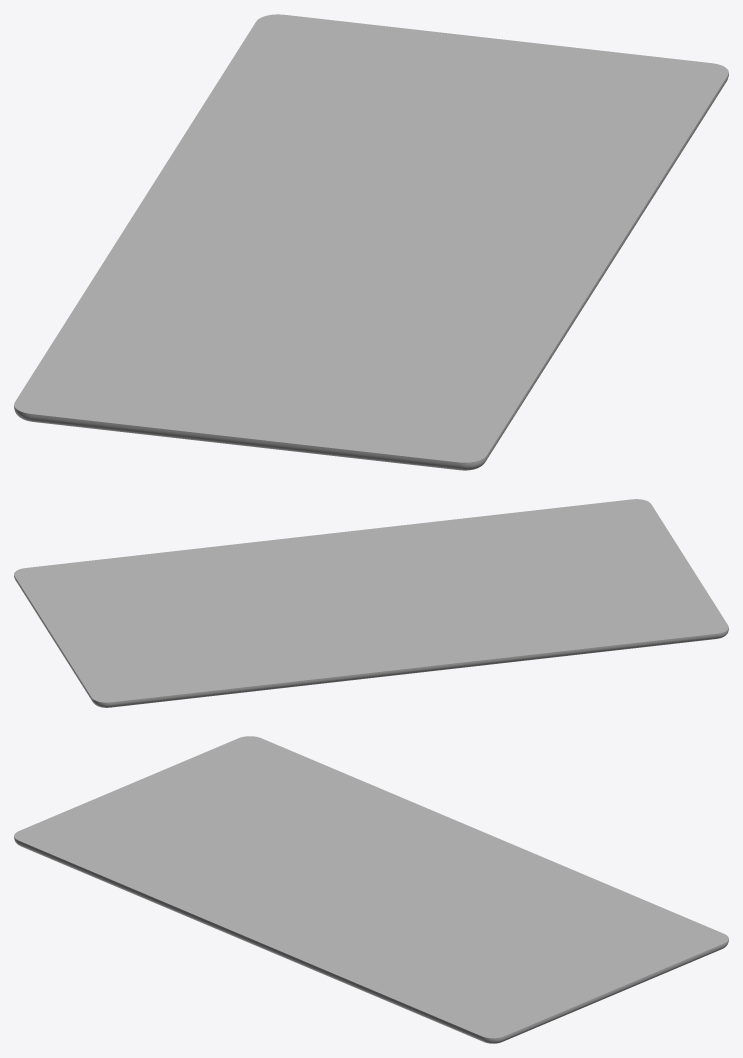
The model's file is diningtable_0207_top.glb.
3 renders of one model, top to bottom at view 1: azimuth 30°, elevation 25°; view 2: azimuth 150°, elevation 25°; view 3: azimuth 270°, elevation 25°, orthographic. The views are drawn at different scales.
Parts seen in each view (by area): view 1: diningtable_0207_top; view 2: diningtable_0207_top; view 3: diningtable_0207_top.
Boxes of the visible parts, x1,y1,x2,y2 form: diningtable_0207_top: (14, 14, 728, 470); diningtable_0207_top: (14, 499, 728, 707); diningtable_0207_top: (14, 736, 728, 1043).
Size of the model in its own units: 1.66 by 0.0202 by 1.66.
Materials: 1 (1 with a texture image).
